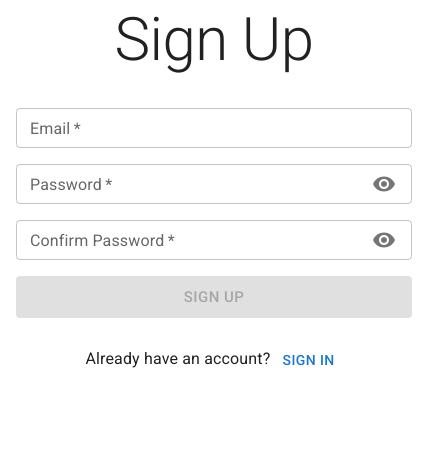
Test: Register › should validate password
Type "test" into the password field with placeholder "Password" at (188, 184), box x1=16 y1=164 x2=359 y2=204
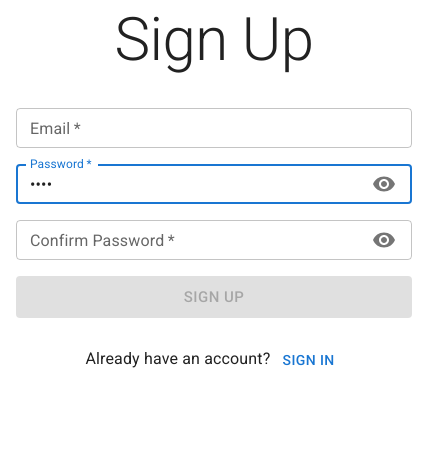
Click the field with placeholder "Email" at (214, 128), box x1=16 y1=108 x2=412 y2=148
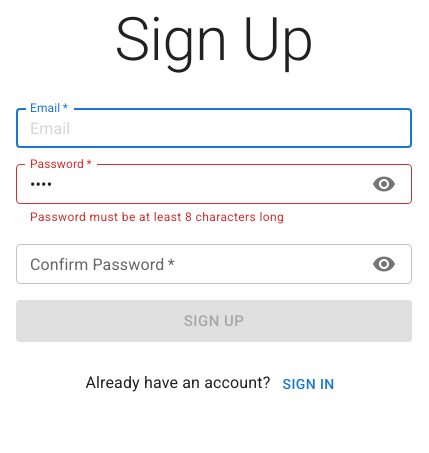
Expected: the text "Password must be at least 8 characters long" is shown, x1=30 y1=210 x2=284 y2=224
Type "12345678" into the password field with placeholder "Password" at (188, 184), box x1=16 y1=164 x2=359 y2=204
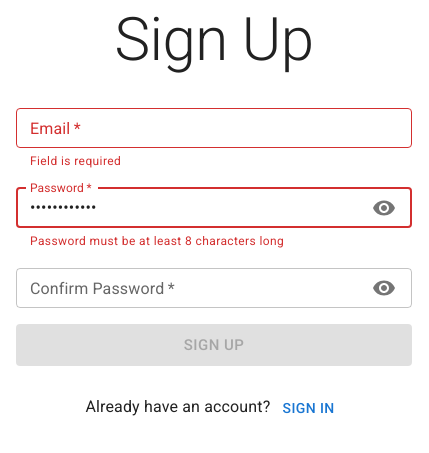
Click the field with placeholder "Email" at (214, 128), box x1=16 y1=108 x2=412 y2=148
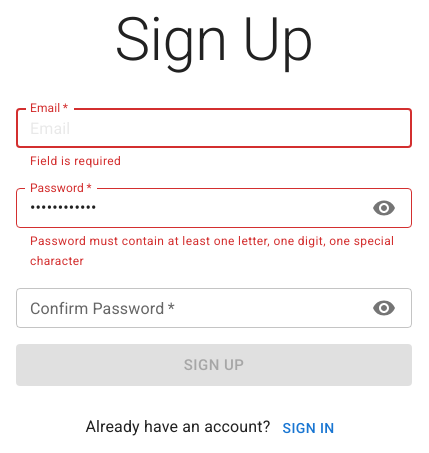
Expected: the text "Password must contain at least one letter, one digit, one special character" is shown, x1=30 y1=232 x2=398 y2=272
